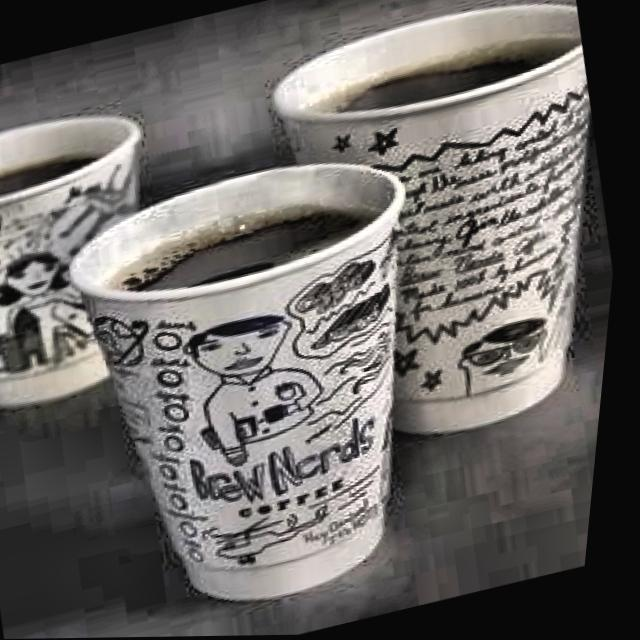Cup: (31, 142, 499, 639), (228, 0, 640, 482), (0, 79, 232, 417)
